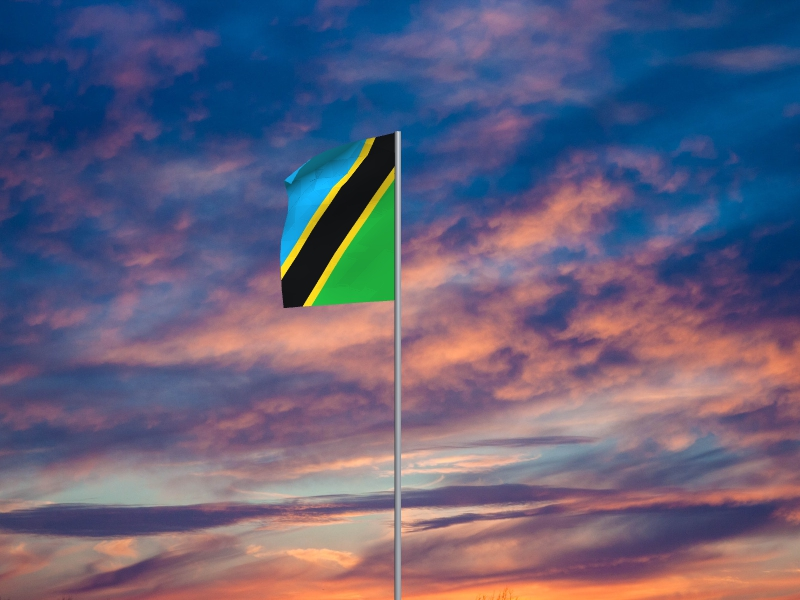tz: (279, 133, 394, 310)
